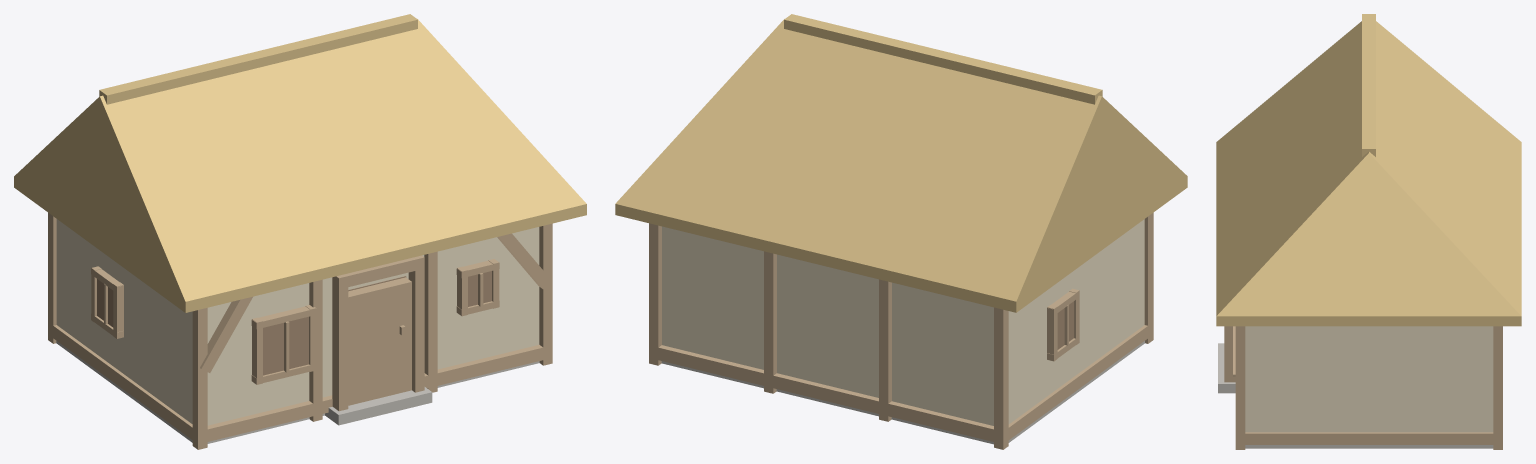
The model's file is house-hip-roof.glb.
The picture shows the model from 3 angles, left to right: view 1: azimuth 30°, elevation 25°; view 2: azimuth 150°, elevation 25°; view 3: azimuth 270°, elevation 25°; orthographic projection. The views are drawn at different scales.
Parts seen in each view (by area): view 1: house-hip-roof_roof, house-hip-roof_plaster, house-hip-roof_wood, house-hip-roof_door, house-hip-roof_window, house-hip-roof_stone; view 2: house-hip-roof_roof, house-hip-roof_plaster, house-hip-roof_wood, house-hip-roof_stone; view 3: house-hip-roof_roof, house-hip-roof_plaster, house-hip-roof_wood, house-hip-roof_stone.
Boxes of the visible parts, bbox=[...] form: house-hip-roof_roof: bbox=[14, 14, 586, 312]; house-hip-roof_plaster: bbox=[56, 219, 539, 425]; house-hip-roof_wood: bbox=[48, 212, 552, 449]; house-hip-roof_door: bbox=[348, 277, 411, 405]; house-hip-roof_window: bbox=[97, 271, 491, 375]; house-hip-roof_stone: bbox=[56, 341, 539, 443]; house-hip-roof_roof: bbox=[615, 14, 1187, 312]; house-hip-roof_plaster: bbox=[662, 219, 1144, 425]; house-hip-roof_wood: bbox=[649, 212, 1153, 449]; house-hip-roof_stone: bbox=[661, 341, 1144, 444]; house-hip-roof_roof: bbox=[1216, 14, 1521, 326]; house-hip-roof_plaster: bbox=[1245, 326, 1493, 432]; house-hip-roof_wood: bbox=[1224, 326, 1502, 449]; house-hip-roof_stone: bbox=[1218, 343, 1493, 448].
Bounding box in the file's own units: 2 × 1.47 × 1.48.
